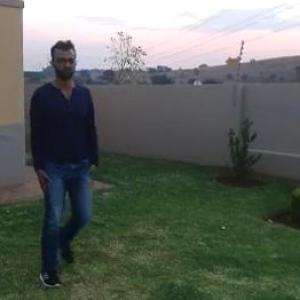follow: (25, 44, 94, 246)
